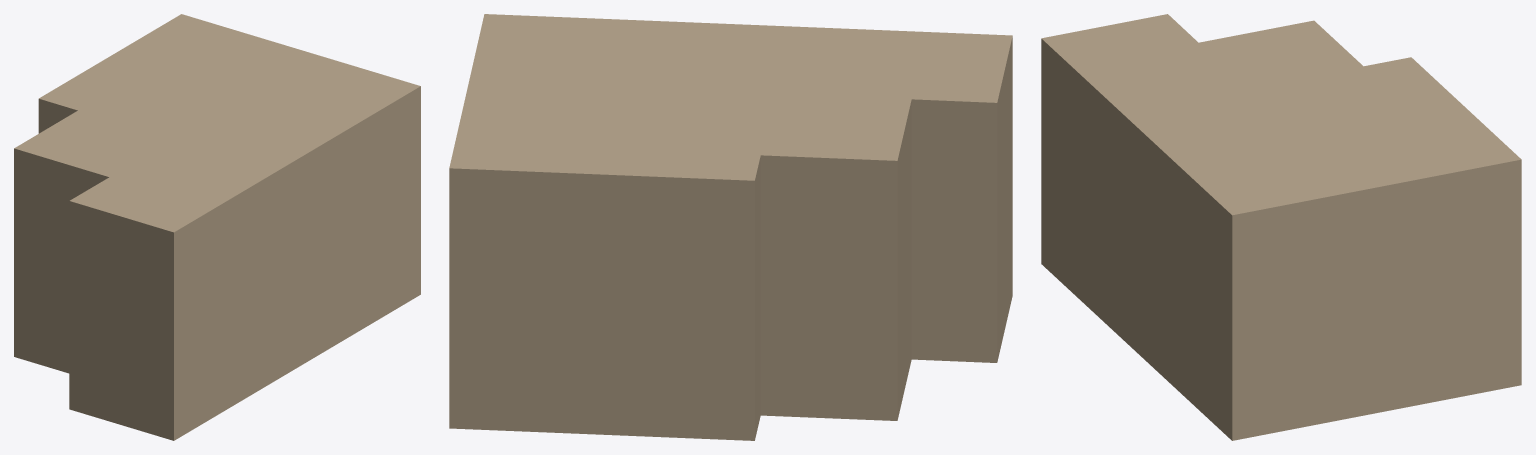
Rendered from bld_107639064.dae.
3 views of the same model, side by side, from view 1: azimuth 30°, elevation 25°; view 2: azimuth 150°, elevation 25°; view 3: azimuth 270°, elevation 25° (orthographic). The views are drawn at different scales.
Parts seen in each view (by area): view 1: bld_107639064; view 2: bld_107639064; view 3: bld_107639064.
Part boxes in pixels (bbox=[...]): bld_107639064: bbox=[14, 14, 420, 440]; bld_107639064: bbox=[449, 14, 1012, 440]; bld_107639064: bbox=[1041, 14, 1521, 440].
Size of the model in its own units: 15.31 by 15.44 by 8.
